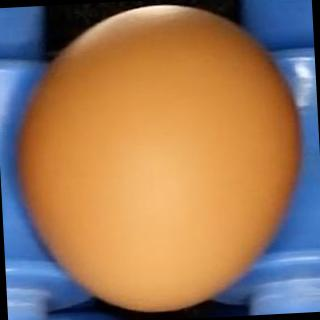Telur: (6, 1, 315, 320)
